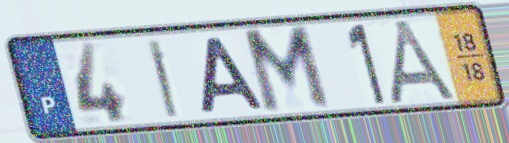1: (345, 21, 389, 107)
4: (72, 40, 134, 127)
A: (386, 17, 464, 107), (198, 35, 269, 116)
I: (143, 37, 181, 121)
M: (238, 22, 335, 118)
